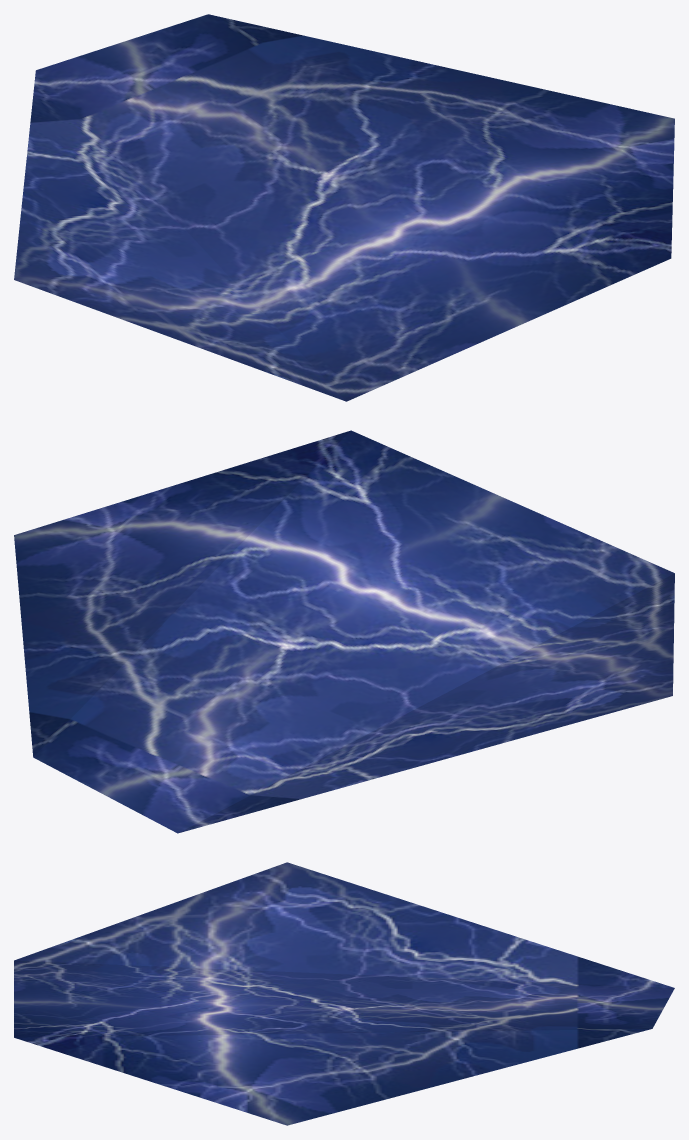
The model's file is tempel_manaBath_GEO_01.fbx.
3 views of the same model, one above another, from view 1: azimuth 30°, elevation 25°; view 2: azimuth 150°, elevation 25°; view 3: azimuth 270°, elevation 25° (orthographic). The views are drawn at different scales.
Visible parts, largest first — view 1: temple_mana_field_GEO_01; view 2: temple_mana_field_GEO_01; view 3: temple_mana_field_GEO_01.
Boxes of the visible parts, bbox=[...] form: temple_mana_field_GEO_01: bbox=[14, 14, 674, 401]; temple_mana_field_GEO_01: bbox=[14, 430, 674, 833]; temple_mana_field_GEO_01: bbox=[14, 862, 674, 1125].
Size of the model in its own units: 1.13 by 0.1044 by 1.2.
1 material, 1 textured.
